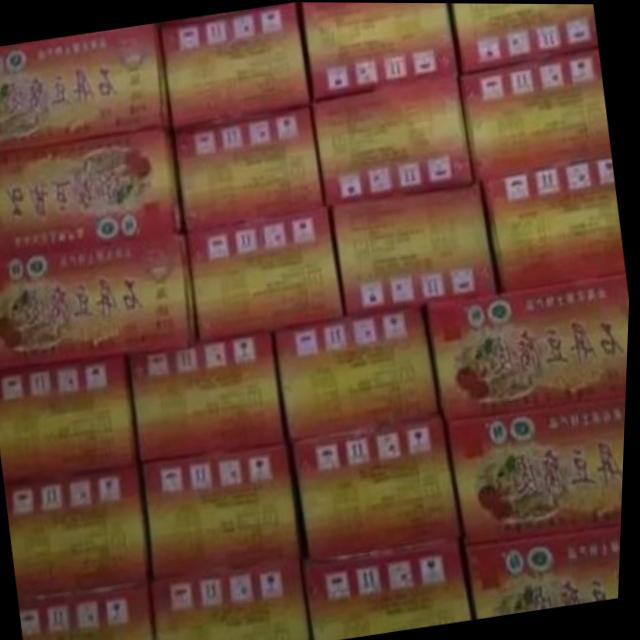box: (426, 273, 631, 420), (0, 232, 200, 370), (449, 396, 629, 544), (295, 417, 463, 562), (0, 128, 183, 257), (277, 306, 443, 440), (332, 184, 498, 317), (188, 205, 346, 343), (0, 22, 170, 150), (145, 444, 305, 579), (311, 76, 475, 205), (460, 49, 613, 181), (133, 333, 290, 461), (173, 102, 327, 232), (484, 157, 628, 293), (159, 2, 312, 128), (8, 466, 154, 598), (307, 533, 476, 640), (0, 356, 141, 483), (300, 2, 457, 100), (469, 528, 625, 619), (155, 560, 317, 640), (453, 3, 599, 73), (23, 585, 160, 640)
